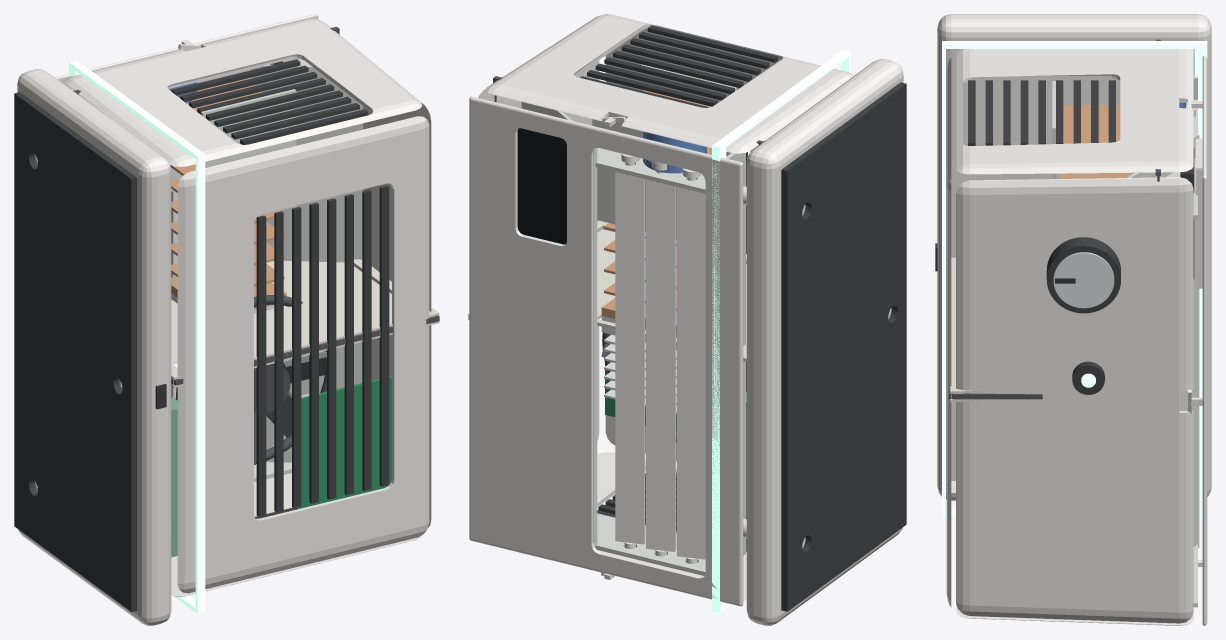
The model's file is assembly_a_eng.glb.
The picture shows the model from 3 angles, left to right: view 1: azimuth 30°, elevation 25°; view 2: azimuth 150°, elevation 25°; view 3: azimuth 270°, elevation 25°; orthographic projection. The views are drawn at different scales.
Parts seen in each view (by area): view 1: Body, SkidPad, IntakeGrille, Base, HotVent_R, Band, M5_ColdDuct, M5_Separator, M3_PCB, M5_HotSink, M5_HotDuct, M4_FanBlades (+4 smaller); view 2: FrontPanel, SkidPad, Base, Body, Louver_2, Louver_1, Louver_0, HotVent_R, M5_ColdDuct, DisplayGlass, Band, M5_HotDuct (+4 smaller); view 3: Body, Base, Band, HotVent_R, Knob, FrontPanel, M5_ColdDuct, M5_HotSink, M7_Clip, CoolKey, M5_Separator, M5_EVA.
Part boxes in pixels (x1,y1,x2,y2): Body: (65, 18, 431, 596); SkidPad: (14, 92, 137, 611); IntakeGrille: (256, 185, 389, 516); Base: (17, 69, 171, 625); HotVent_R: (171, 59, 368, 144); Band: (69, 60, 205, 613); M5_ColdDuct: (250, 59, 363, 482); M5_Separator: (79, 95, 439, 387); M3_PCB: (295, 375, 391, 509); M5_HotSink: (170, 79, 286, 309); M5_HotDuct: (171, 69, 296, 215); M4_FanBlades: (254, 351, 336, 465); FrontPanel: (469, 96, 743, 606); SkidPad: (781, 82, 906, 611); Base: (746, 59, 903, 625); Body: (478, 14, 853, 600); Louver_2: (615, 153, 645, 548); Louver_1: (646, 163, 676, 556); Louver_0: (677, 168, 705, 563); HotVent_R: (580, 25, 778, 107); M5_ColdDuct: (521, 102, 745, 575); DisplayGlass: (517, 128, 566, 244); Band: (712, 50, 850, 613); M5_HotDuct: (592, 64, 736, 239); Body: (946, 49, 1193, 625); Base: (937, 14, 1211, 500); Band: (942, 41, 1207, 516); HotVent_R: (968, 80, 1115, 145); Knob: (1046, 237, 1120, 313); FrontPanel: (1202, 56, 1207, 625); M5_ColdDuct: (1127, 76, 1199, 607); M5_HotSink: (1060, 105, 1134, 178); M7_Clip: (1195, 138, 1202, 288); CoolKey: (1072, 361, 1104, 394); M5_Separator: (950, 257, 980, 401); M5_EVA: (948, 39, 1160, 399).
Size of the model in its own units: 0.1683 by 0.228 by 0.119.
